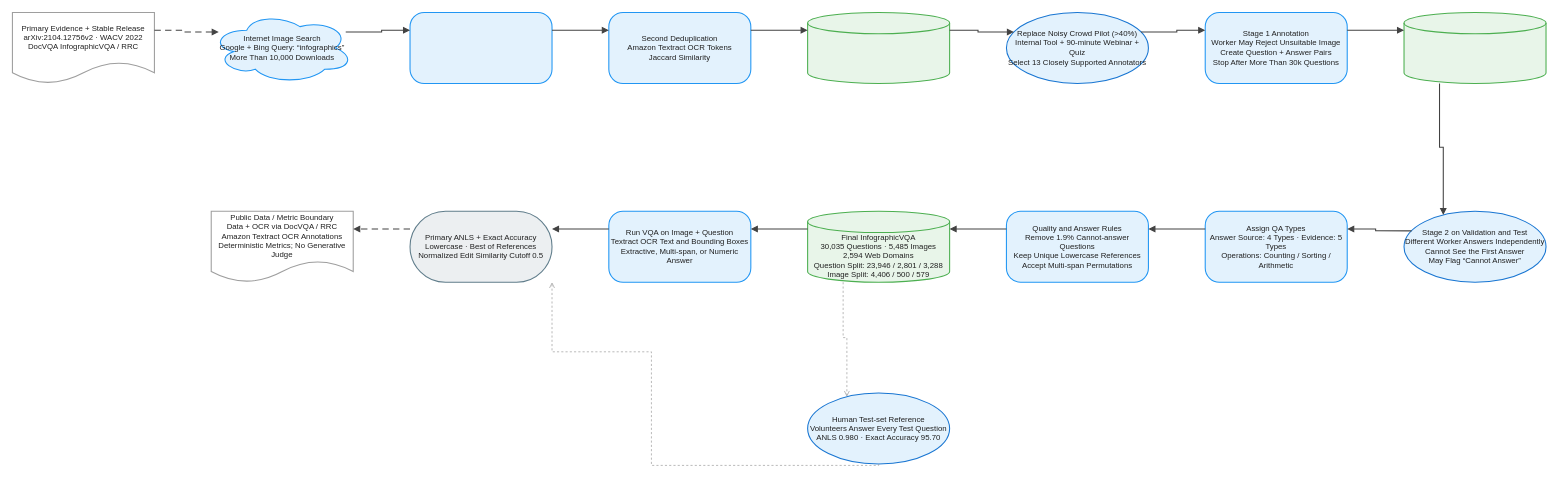
Image size: 1559x484. Some labels were removed from this diagram. The shapes that lost their labels are listed below. From the top down, each one's box as (x1, y1, x2, y2) in pixels, then its label:
(409, 12, 552, 84): Perceptual-hash Deduplication Remove Nearly 2,000 Duplicate Images
(807, 12, 950, 84): Annotation Candidate Pool About 7,000 Diverse Infographics
(1403, 12, 1546, 84): Random Image-disjoint Splits Roughly 80% / 10% / 10% Train · Validation · Test
